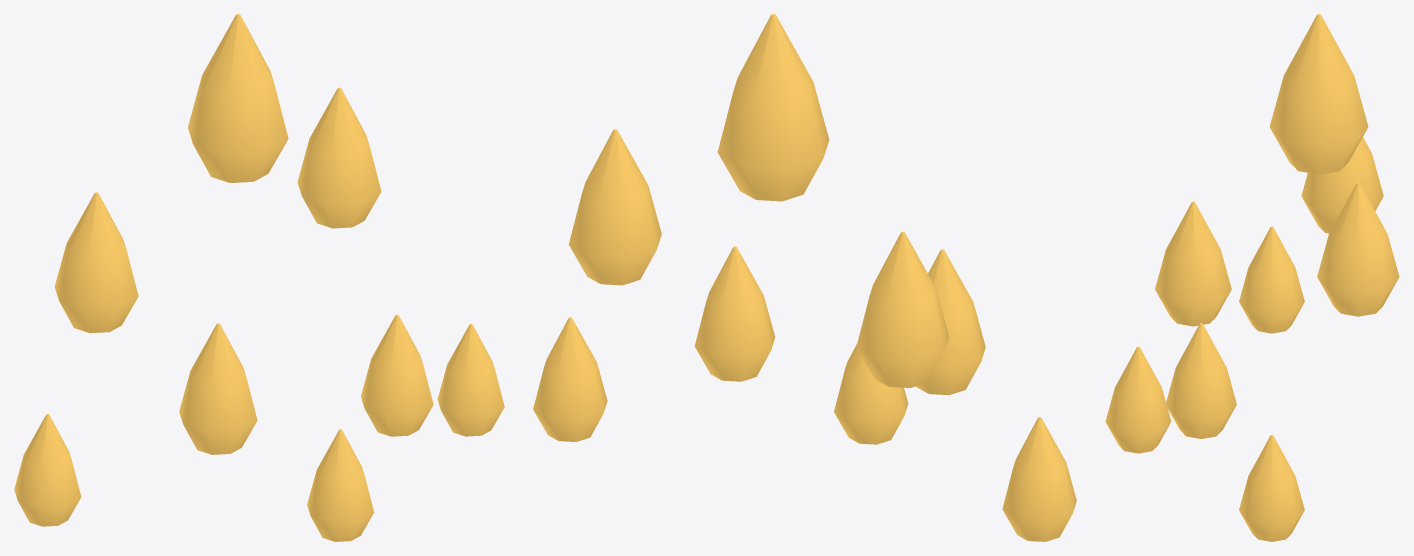
The model's file is candle_pile_flames.glb.
3 renders of one model, left to right at view 1: azimuth 30°, elevation 25°; view 2: azimuth 150°, elevation 25°; view 3: azimuth 270°, elevation 25°, orthographic. The views are drawn at different scales.
Visible parts, largest first — view 1: Item; view 2: Item; view 3: Item.
Part boxes in pixels (left/top/right/bottom): Item: left=14, top=14, right=504, bottom=541; Item: left=533, top=14, right=1076, bottom=541; Item: left=1105, top=14, right=1399, bottom=541.
Bounding box in the file's own units: 1.35 × 1.2 × 0.749.
Materials: 1 (1 with a texture image).
